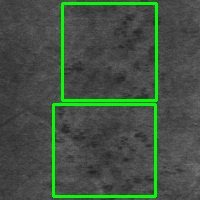rolled-in_scale: (53, 104, 155, 196), (62, 3, 156, 100)
